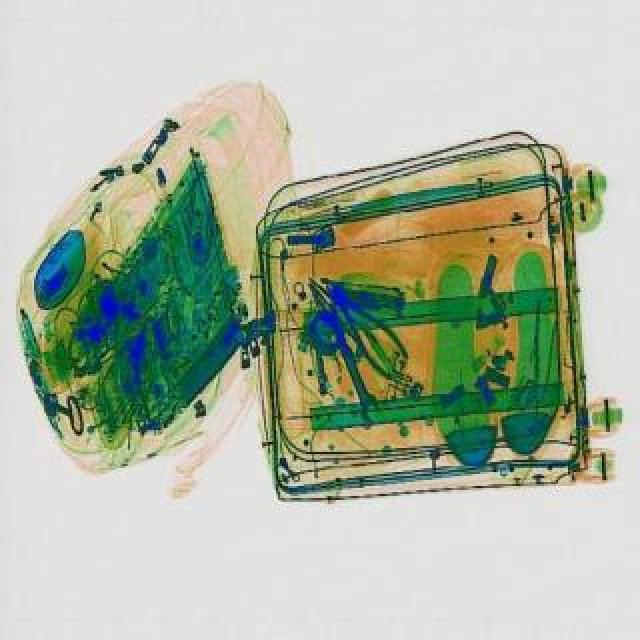scissors: (314, 298, 386, 424)
wrench: (310, 268, 418, 384)
